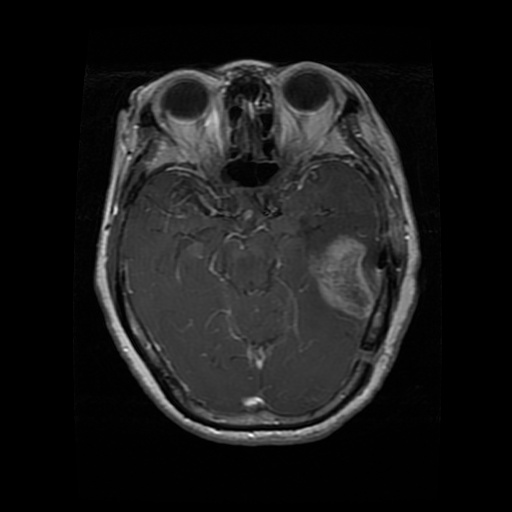glioma: (307, 235, 375, 319)
